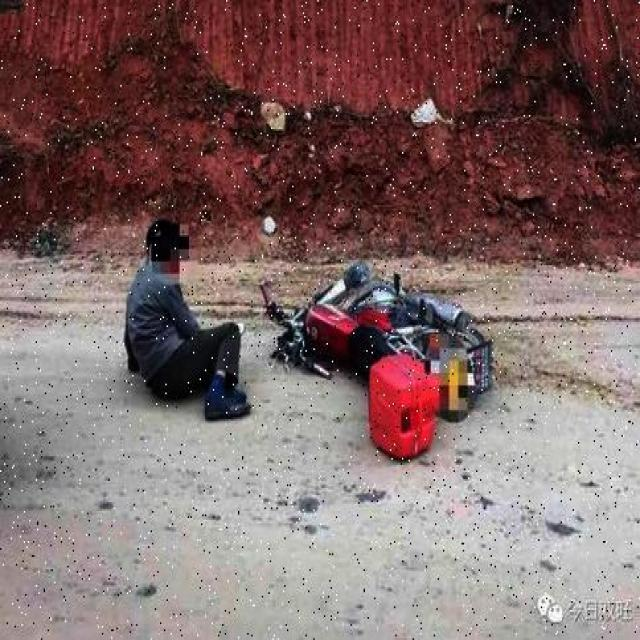fall: (125, 220, 252, 424)
